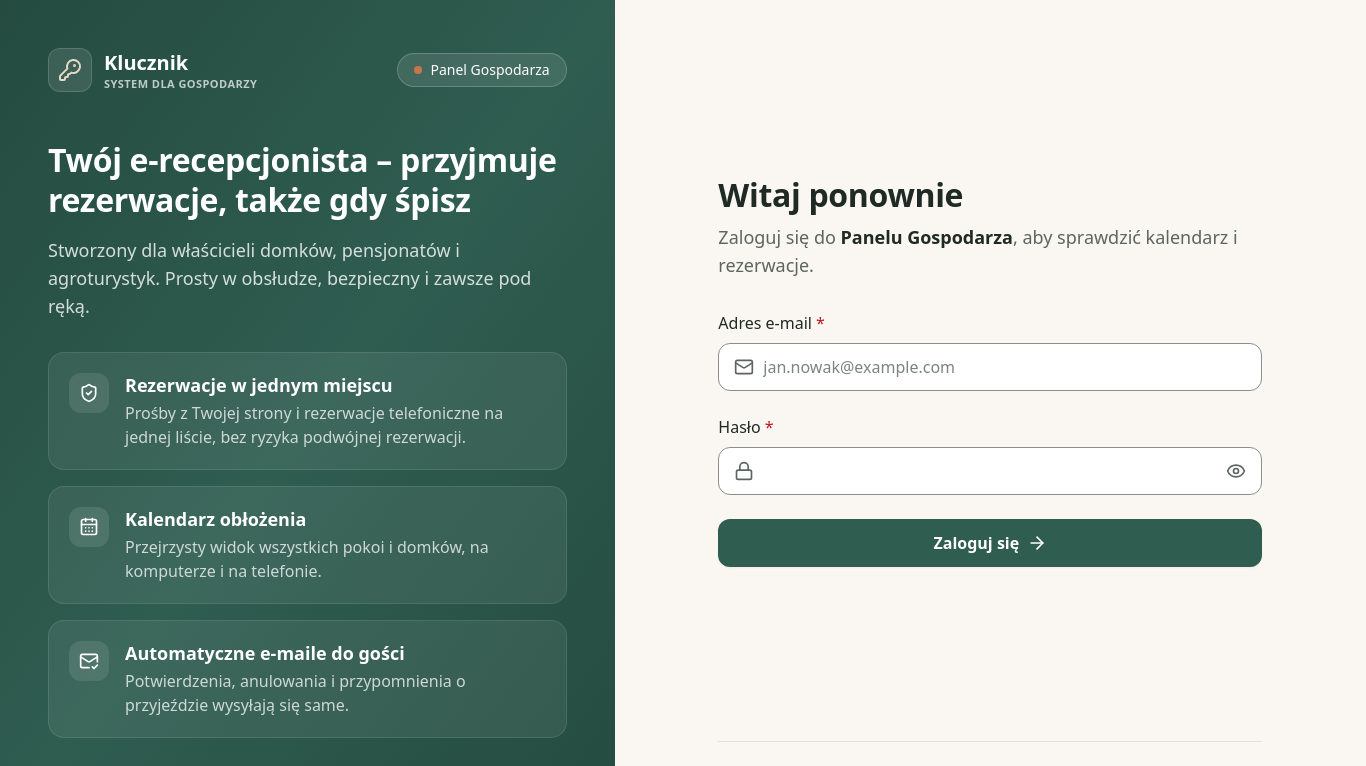
LoginPage (O1) › sends normalized credentials; OWNER lands on /panel
Type "  jan.nowak@example.com " into the field labelled "Adres e-mail *". click: (990, 366)
box: [718, 342, 1262, 390]
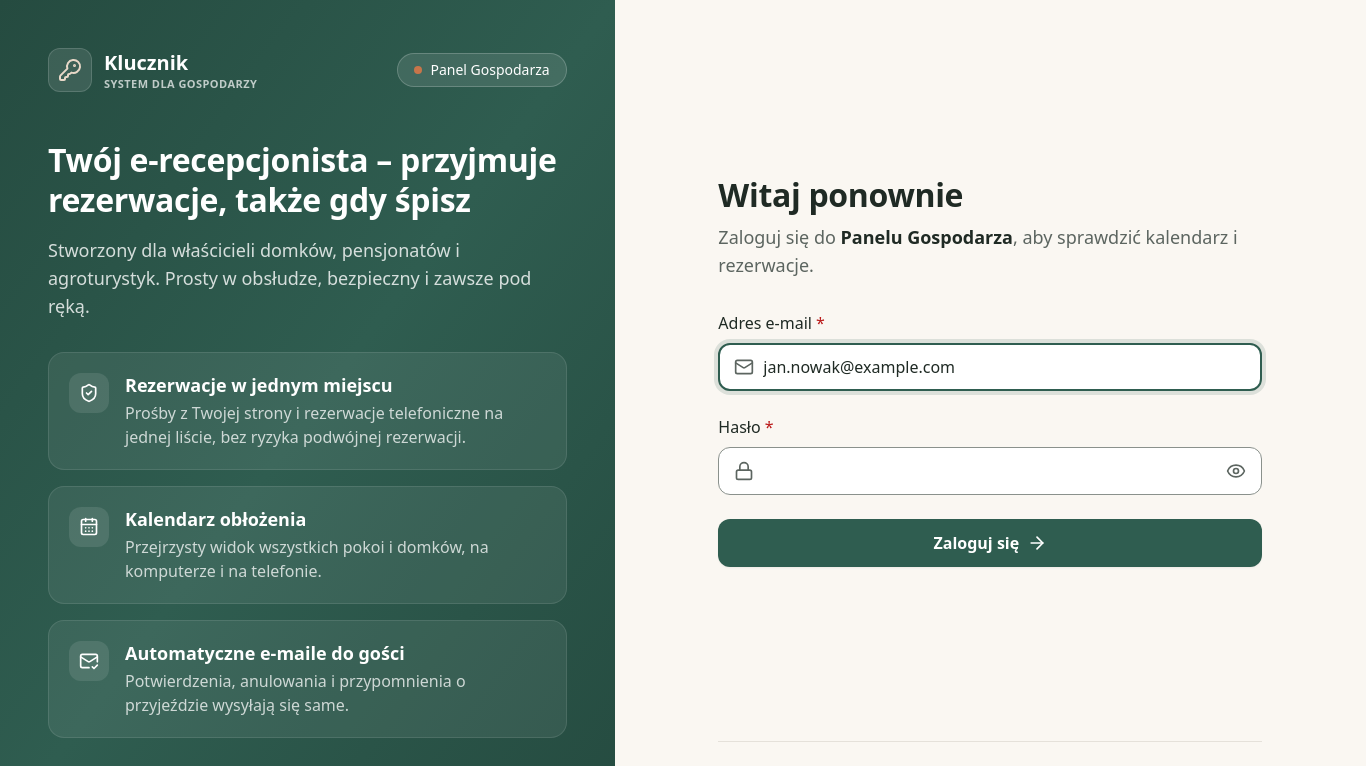
Type "tajne-haslo" into the password field labelled "Hasło *". click: (990, 470)
box: [718, 446, 1262, 494]
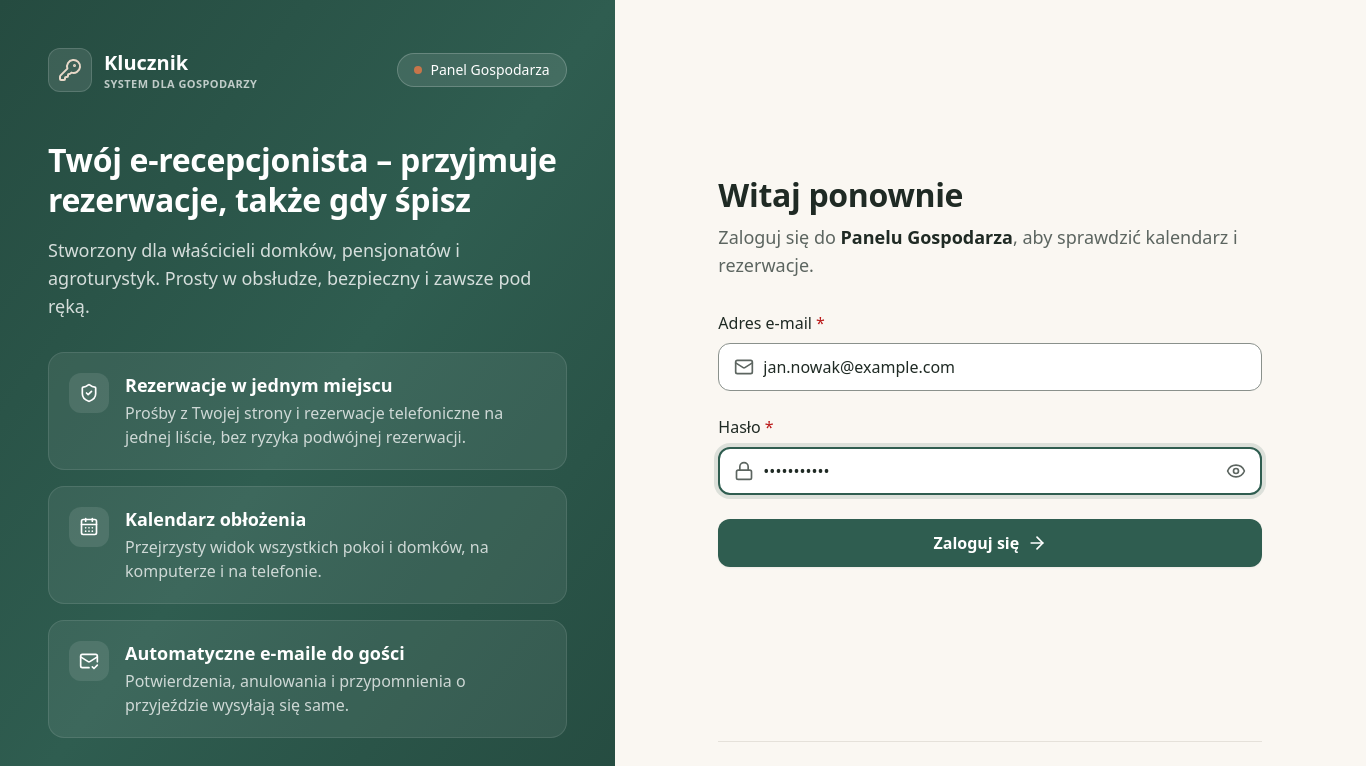
Click the button "Zaloguj się". click: click(990, 542)
box: [718, 518, 1262, 566]
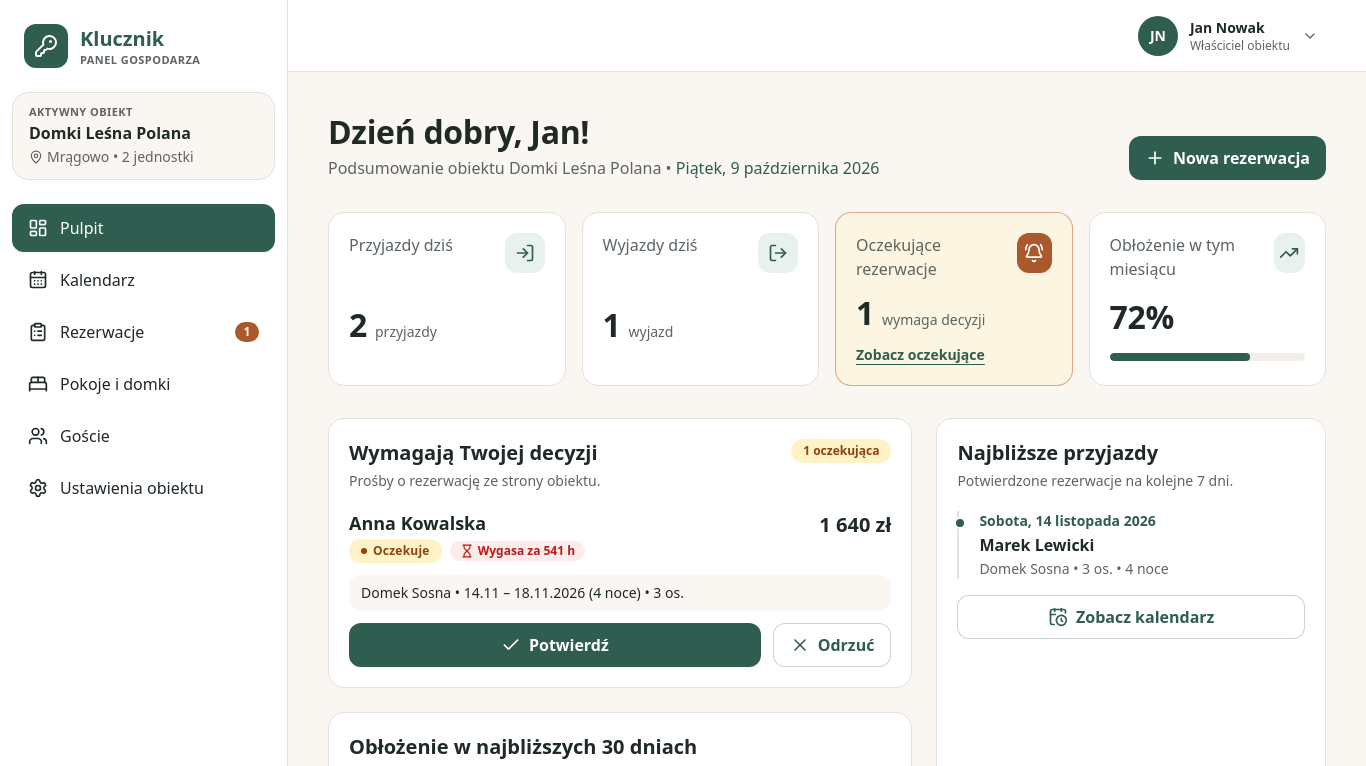
Expected: the heading "Dzień dobry, Jan!" is shown, [328, 110, 589, 153]
